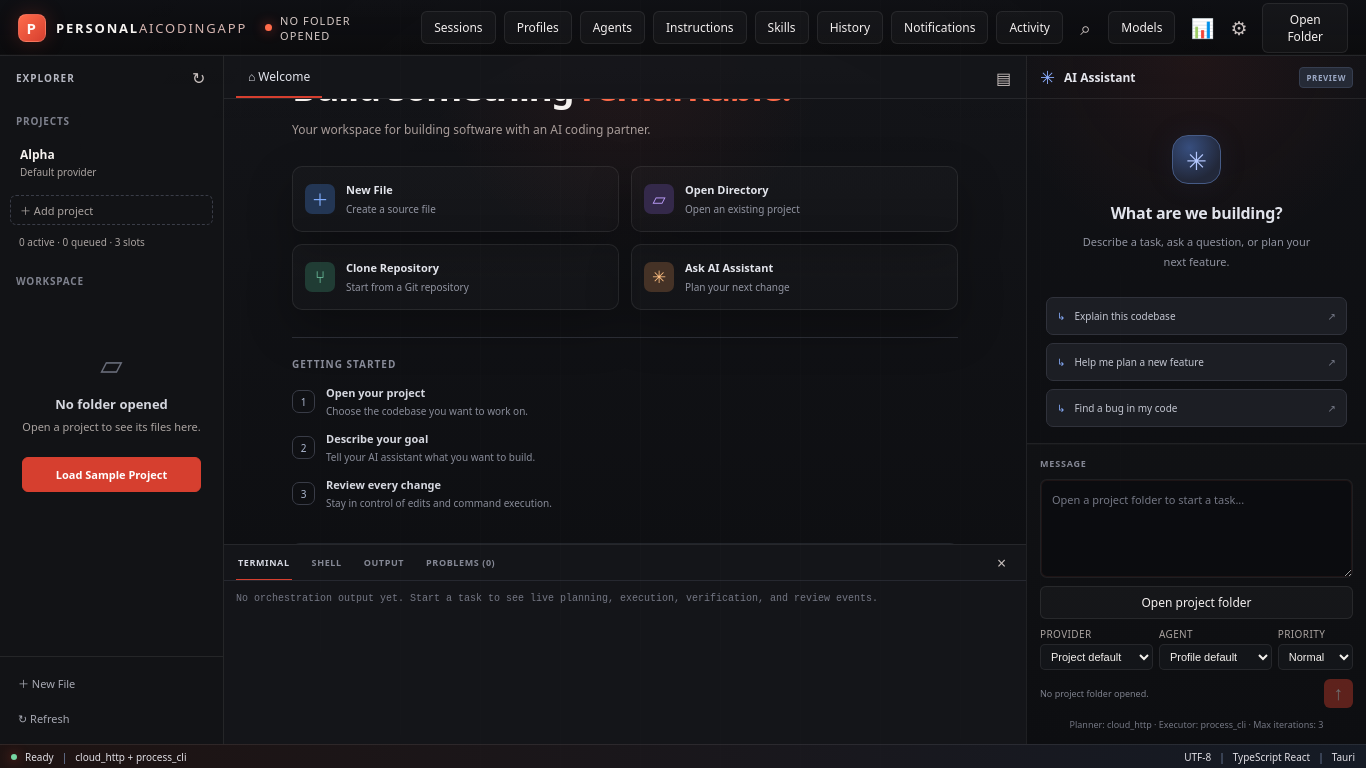
Model preferences and token usage UI › loads token usage from backend and distinguishes unknown/missing values
Check: the text "Alpha" is shown, box [20, 146, 55, 163]
Step 1. Click the button titled "Token Usage" → (1199, 28), box [1183, 12, 1215, 42]
(page scrolled)
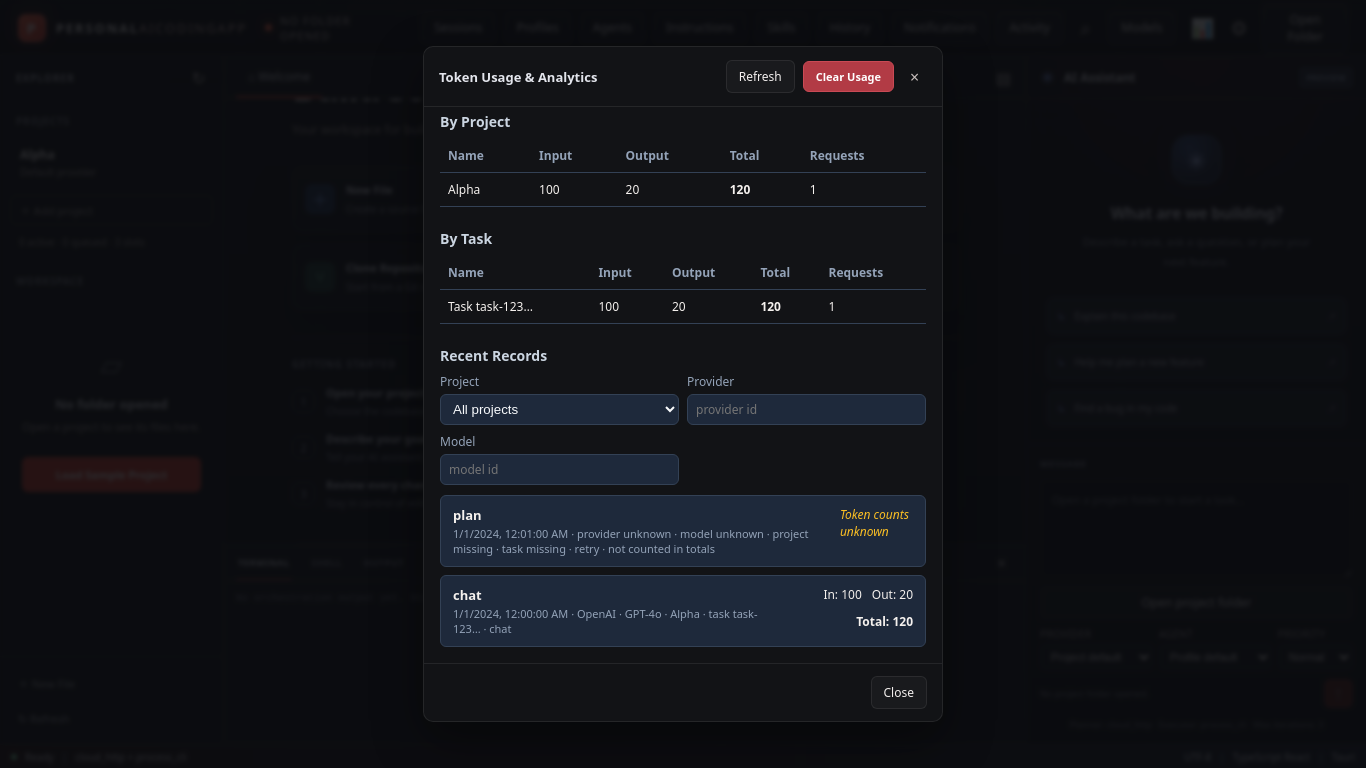
Check: the heading "Token Usage & Analytics" is shown, box [439, 68, 597, 86]
Check: the text "Token counts unknown" is shown, box [840, 506, 913, 540]
